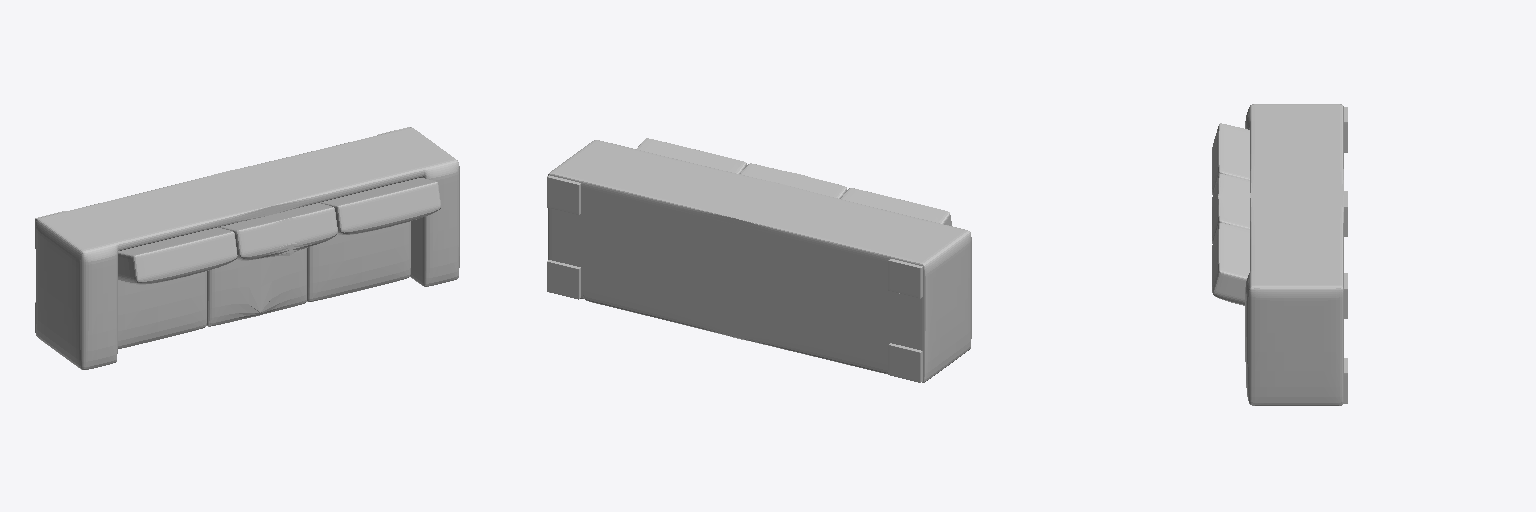
Rendered from rossini.obj.
3 views of the same model, side by side, from view 1: azimuth 30°, elevation 25°; view 2: azimuth 150°, elevation 25°; view 3: azimuth 270°, elevation 25° (orthographic).
Parts seen in each view (by area): view 1: polySurface10; view 2: polySurface10; view 3: polySurface10.
Boxes of the visible parts, <box> form: polySurface10: <box>35,127,459,369</box>; polySurface10: <box>547,138,971,382</box>; polySurface10: <box>1212,104,1347,405</box>.
Bounding box in the file's own units: 7.19 × 2.19 × 2.24.